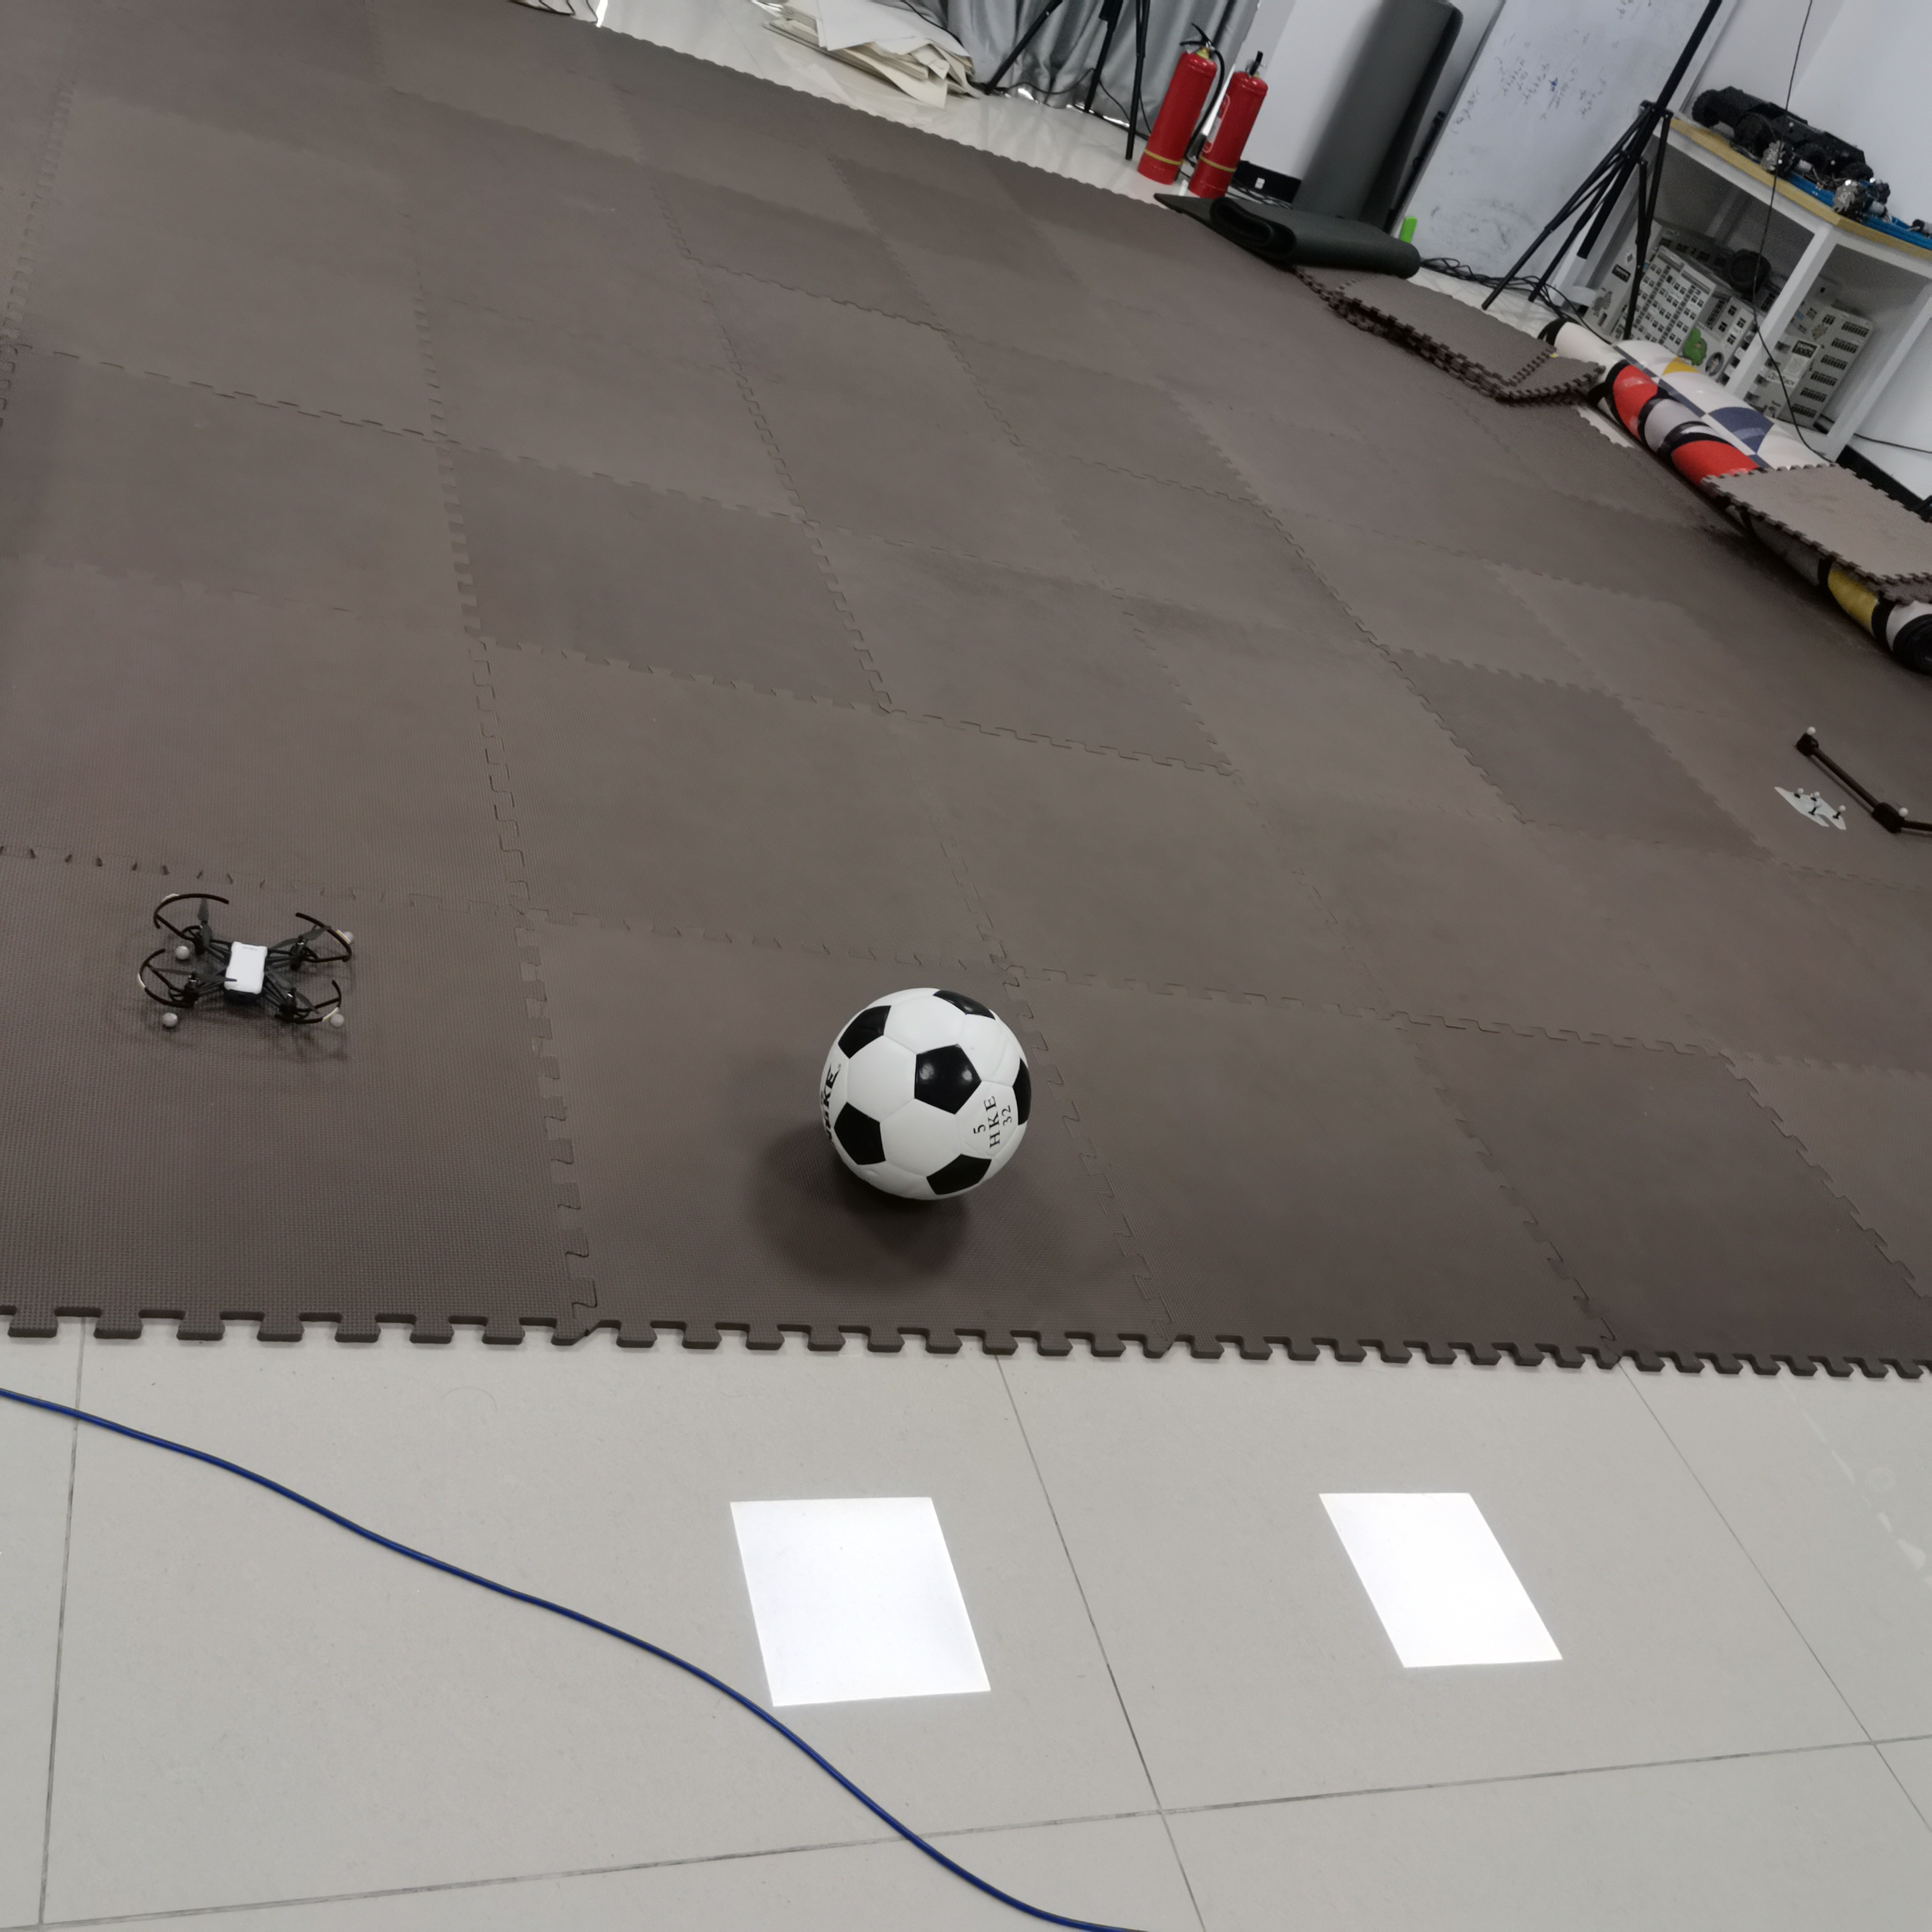football: (821, 987, 1035, 1203)
